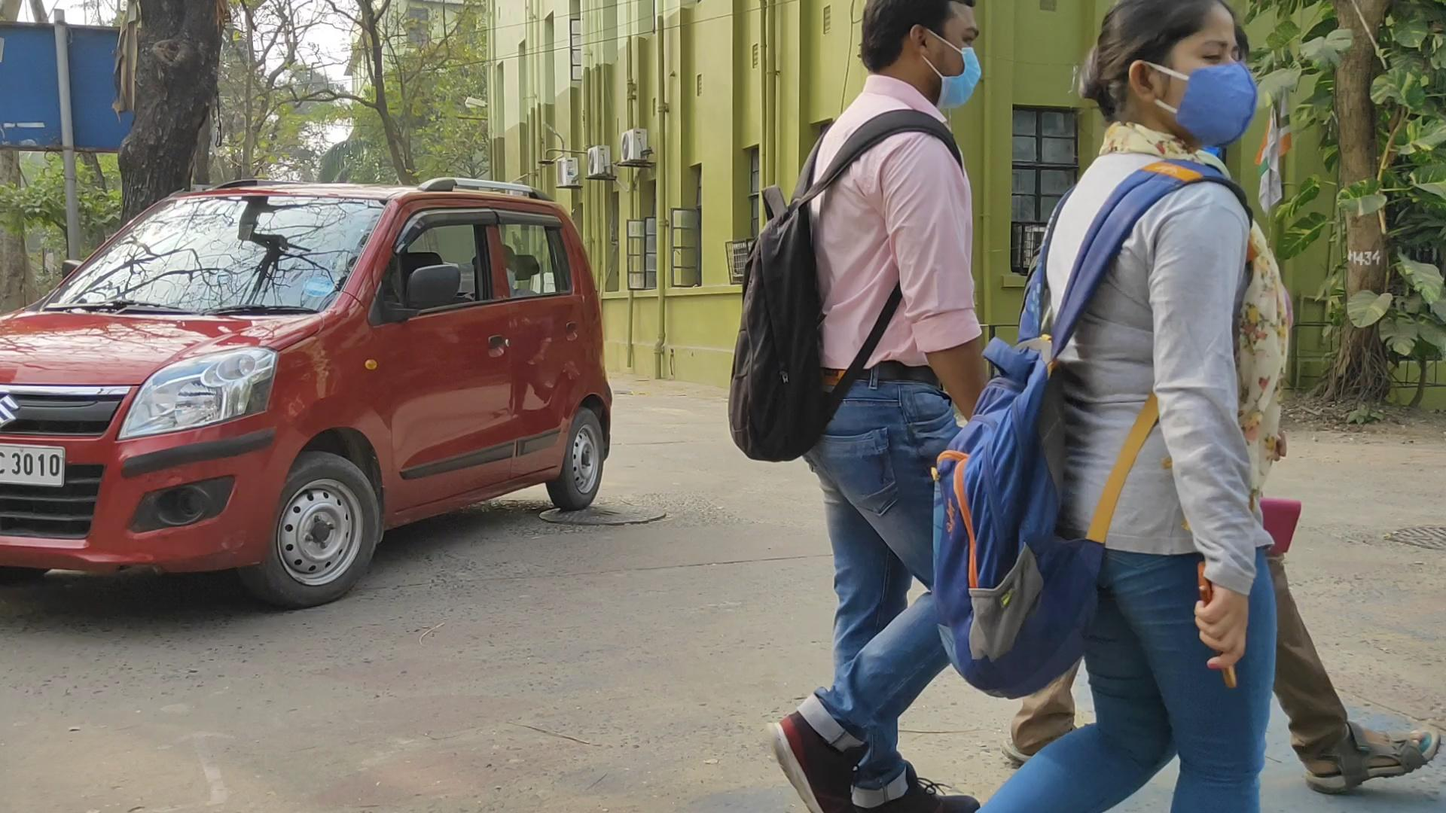car: (1, 178, 613, 611)
